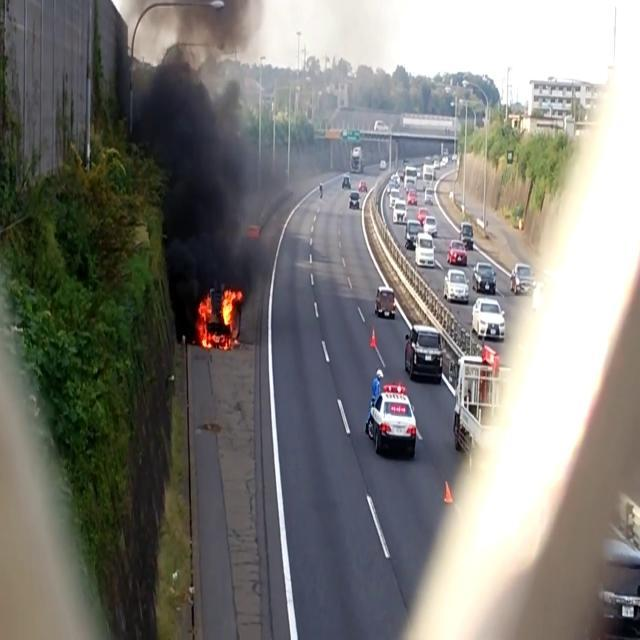Fire: (196, 278, 246, 348)
Smoke: (118, 0, 266, 281)
